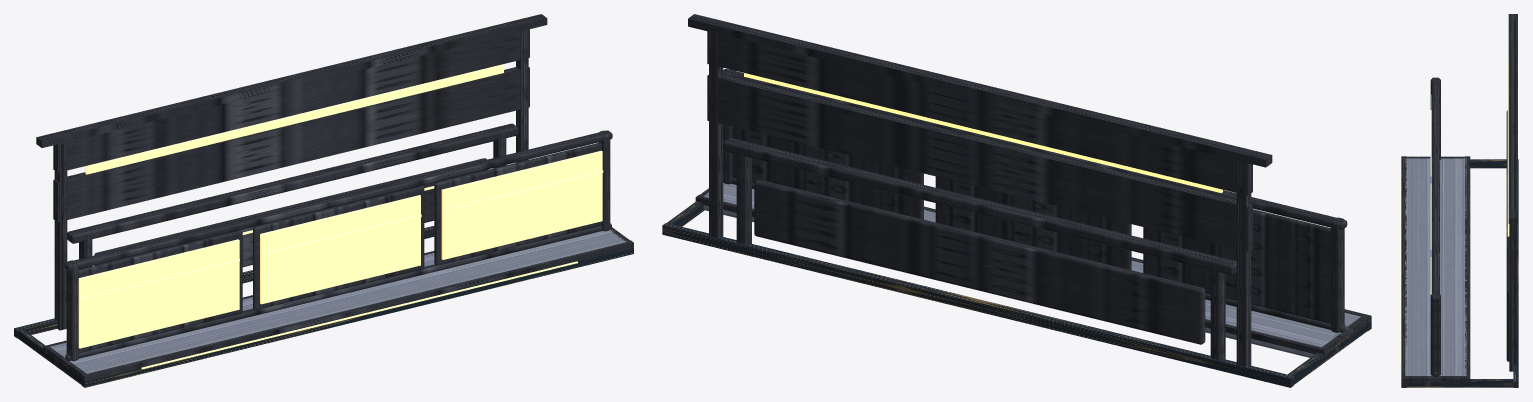
File: bridge_holoscreen.glb
The picture shows the model from 3 angles, left to right: view 1: azimuth 30°, elevation 25°; view 2: azimuth 150°, elevation 25°; view 3: azimuth 270°, elevation 25°; orthographic projection. The views are drawn at different scales.
Visible parts, largest first — view 1: sight_shell, glow2, glow0, glow1, base, depthbeam, topbar, shellrim0, sightglow, shelltoe0, rail, frame1 (+11 smaller); view 2: sight_shell, depthpanel, frame0, shelltoe2, depthbeam, frame1, frame2, base, topbar, sightglow, post0, depthpost0 (+4 smaller); view 3: base, sight_shell, topbar, shellrim2, shellrim0, shelltoes2, post2, depthbeam, shelltoe2, shellrims2, shelltoes0, sightglow (+6 smaller).
Part boxes in pixels (x1,y1,x2,y2): sight_shell: (36, 14, 547, 330); glow2: (441, 150, 602, 259); glow0: (78, 239, 239, 348); glow1: (260, 195, 420, 304); base: (50, 229, 626, 373); depthbeam: (67, 123, 518, 243); topbar: (64, 130, 612, 271); shellrim0: (81, 240, 633, 381); sightglow: (85, 64, 503, 174); shelltoe0: (81, 246, 633, 387); rail: (65, 223, 611, 360); frame1: (253, 186, 424, 309); sight_shell: (688, 14, 1272, 366); depthpanel: (754, 179, 1205, 344); frame0: (1143, 209, 1330, 323); shelltoe2: (662, 223, 1294, 387); depthbeam: (723, 138, 1236, 275); frame1: (935, 176, 1131, 270); frame2: (732, 127, 923, 219); base: (703, 183, 1360, 357); topbar: (723, 69, 1347, 229); sightglow: (744, 73, 1222, 192); post0: (1331, 217, 1344, 332); depthpost0: (1210, 256, 1225, 359); base: (1405, 158, 1466, 375); sight_shell: (1508, 14, 1517, 371); topbar: (1431, 77, 1439, 302); shellrim2: (1465, 156, 1470, 382); shellrim0: (1401, 156, 1406, 382); shelltoes2: (1406, 379, 1513, 387); post2: (1430, 294, 1440, 375); depthbeam: (1506, 110, 1509, 296); shelltoe2: (1513, 159, 1518, 387); shellrims2: (1405, 376, 1466, 382); shelltoes0: (1470, 159, 1506, 168); sightglow: (1507, 61, 1509, 236).
Size of the model in its own units: 5.04 by 1.7 by 1.13.
6 materials, 4 textured.
